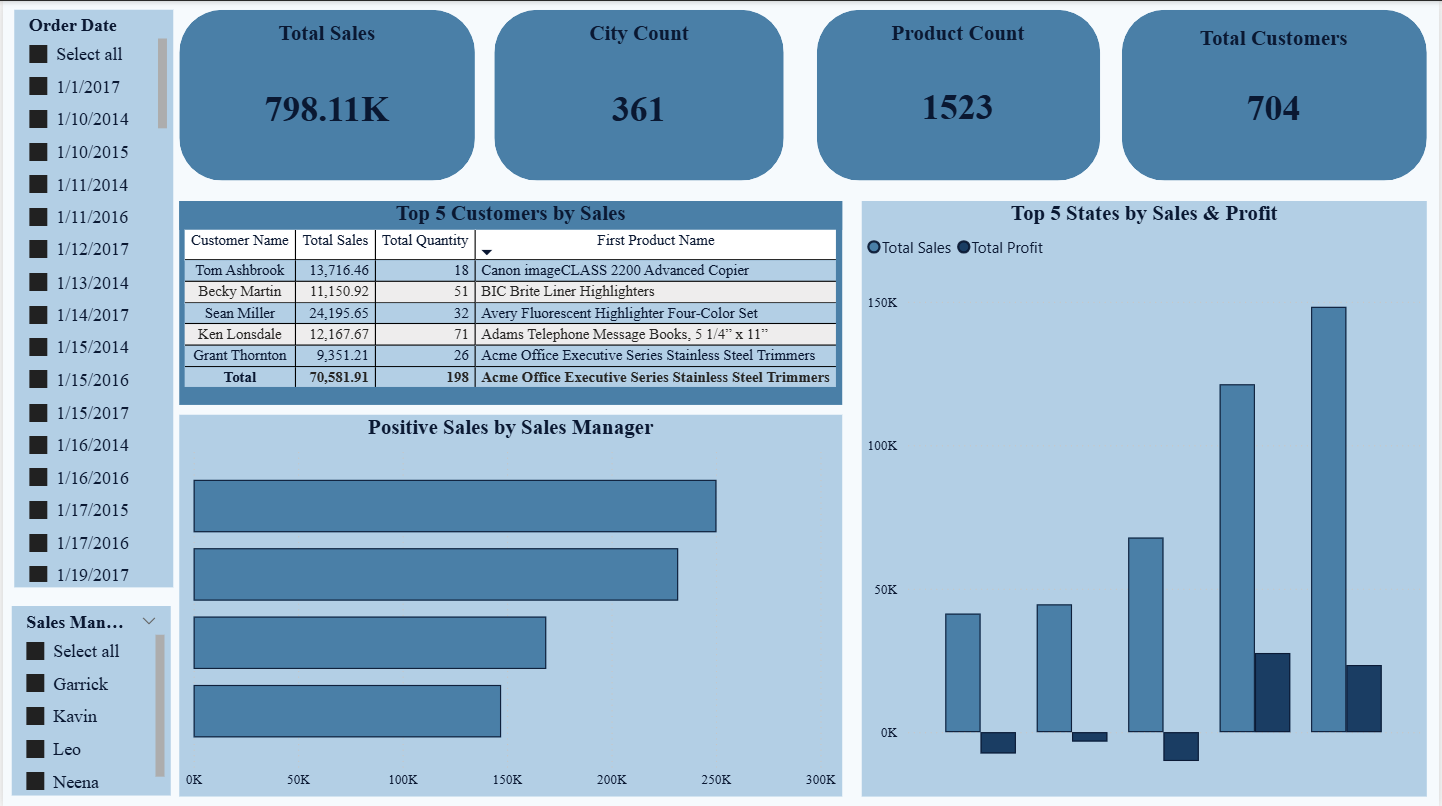

What the dashboard file says about the page in this screenshot:
{"tool":"powerbi","page":{"name":"Customer & Sales Analysis","canvas":[1280,720],"ordinal":1},"visuals":[{"type":"shape","box":[156.4,8.2,263.5,152.3],"z":0},{"type":"shape","box":[437.7,8.2,258,152.3],"z":1000},{"type":"shape","box":[724.5,8.2,252.5,152.3],"z":2000},{"type":"shape","box":[996.2,8.2,271.7,152.3],"z":3000},{"type":"card","title":"Total Sales","fields":{"Values":["Sales.Total Sales"]},"box":[175.6,17.8,225,134.5],"z":4000},{"type":"card","title":"City Count","fields":{"Values":["People.City Count"]},"box":[455.6,17.8,222.3,134.5],"z":5000},{"type":"card","title":"Product Count","fields":{"Values":["People.Product Count"]},"box":[732.8,17.8,236,130.4],"z":6000},{"type":"card","title":"Total Customers","fields":{"Values":["People.Total Customers"]},"box":[1016.8,22,230.5,123.5],"z":7000},{"type":"pivotTable","title":"Top 5 Customers by Sales","fields":{"Rows":["Sales.Customer Name"],"Values":["Sales.Total Sales","Sales.Total Quantity","Min(Sales.Product Name)"]},"box":[157.1,177.9,590.2,181.6],"z":8000},{"type":"clusteredBarChart","title":"Positive Sales by Sales Manager","fields":{"Category":["People.Sales Manager"],"Y":["Sales.Total Sales"]},"box":[157.1,368.1,590.2,339.9],"z":9000},{"type":"clusteredColumnChart","title":"Top 5 States by Sales & Profit","fields":{"Category":["Sales.State"],"Y":["Sales.Total Sales","Sales.Total Profit"]},"box":[764.4,177.9,503.1,530.1],"z":10000},{"type":"slicer","fields":{"Values":["Sales.Order Date"]},"box":[9.6,8.2,141.3,514.6],"z":11000},{"type":"slicer","fields":{"Values":["People.Sales Manager"]},"box":[8.2,539.3,141.3,168.8],"z":12000}]}

Visuals, with their boxes in screenshot pixels (x1, y1, x2, y2), scaled from the page's 1280x720 canvas onto the 1442x806 screenshot:
shape: l=176, t=9, r=473, b=180
shape: l=493, t=9, r=784, b=180
shape: l=816, t=9, r=1101, b=180
shape: l=1122, t=9, r=1428, b=180
"Total Sales" card: l=198, t=20, r=451, b=170
"City Count" card: l=513, t=20, r=764, b=170
"Product Count" card: l=826, t=20, r=1091, b=166
"Total Customers" card: l=1145, t=25, r=1405, b=163
"Top 5 Customers by Sales" pivotTable: l=177, t=199, r=842, b=402
"Positive Sales by Sales Manager" clusteredBarChart: l=177, t=412, r=842, b=793
"Top 5 States by Sales & Profit" clusteredColumnChart: l=861, t=199, r=1428, b=793
slicer - Sales.Order Date: l=11, t=9, r=170, b=585
slicer - People.Sales Manager: l=9, t=604, r=168, b=793
